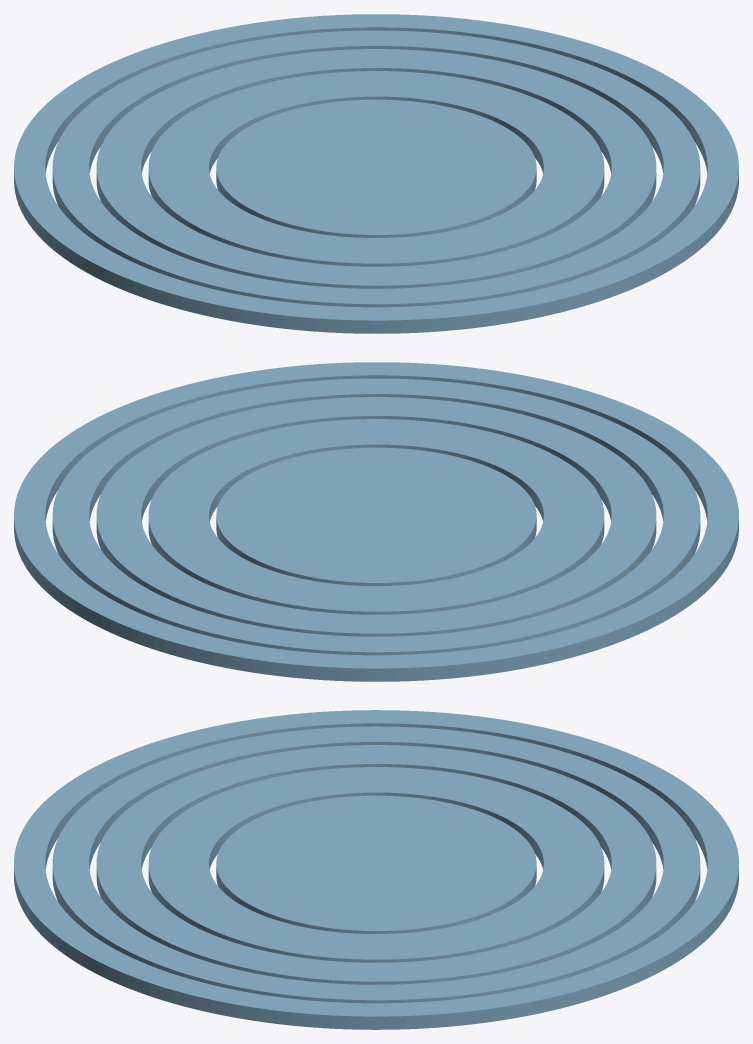
Rendered from p-membrane-zones.glb.
3 renders of one model, top to bottom at view 1: azimuth 30°, elevation 25°; view 2: azimuth 150°, elevation 25°; view 3: azimuth 270°, elevation 25°, orthographic.
Visible parts, largest first — view 1: membrane_zones; view 2: membrane_zones; view 3: membrane_zones.
Boxes of the visible parts, box(x1,y1,x2,y2) form: membrane_zones: box(14, 14, 738, 333); membrane_zones: box(14, 362, 738, 681); membrane_zones: box(14, 710, 738, 1029).
Size of the model in its own units: 0.297 by 0.006 by 0.2969.
